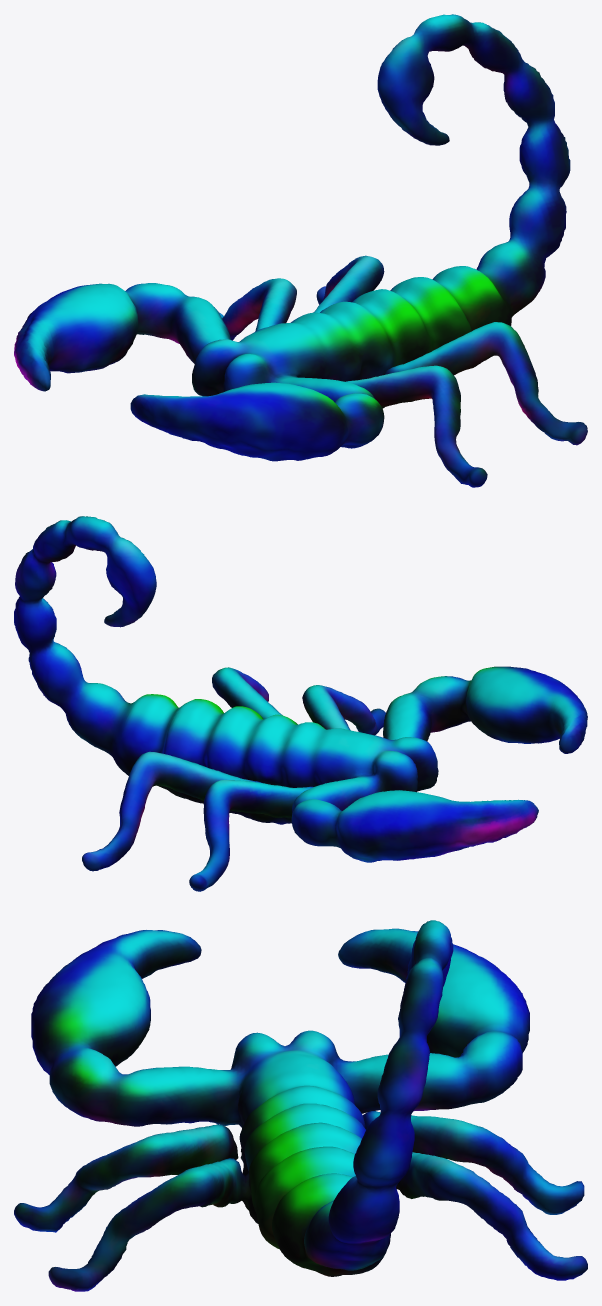
The model's file is scorpion_1step.glb.
3 renders of one model, top to bottom at view 1: azimuth 30°, elevation 25°; view 2: azimuth 150°, elevation 25°; view 3: azimuth 270°, elevation 25°, orthographic. The views are drawn at different scales.
Visible parts, largest first — view 1: world; view 2: world; view 3: world.
Part boxes in pixels (bbox=[...]): world: bbox=[14, 14, 587, 487]; world: bbox=[14, 516, 587, 891]; world: bbox=[14, 920, 587, 1291].
Bounding box in the file's own units: 1.2 × 0.6758 × 0.9082.
